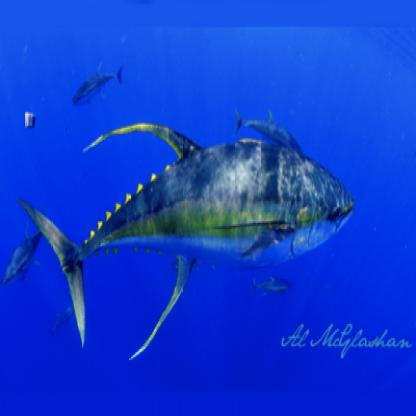Scombridae -Tunas-: (12, 115, 355, 367), (71, 56, 128, 106)
